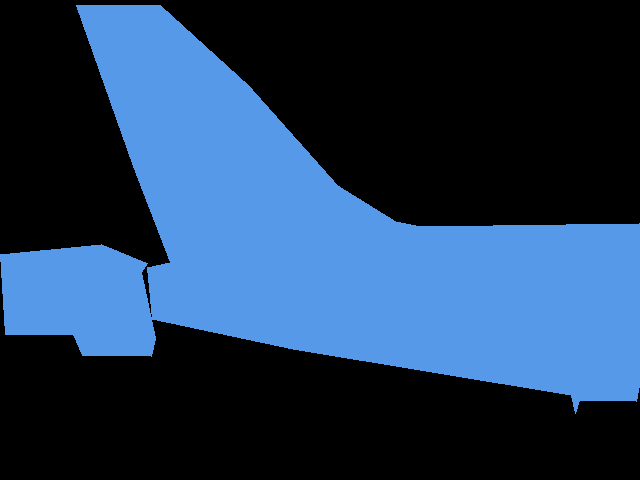Airplane: (76, 5, 640, 413), (0, 244, 155, 356)
